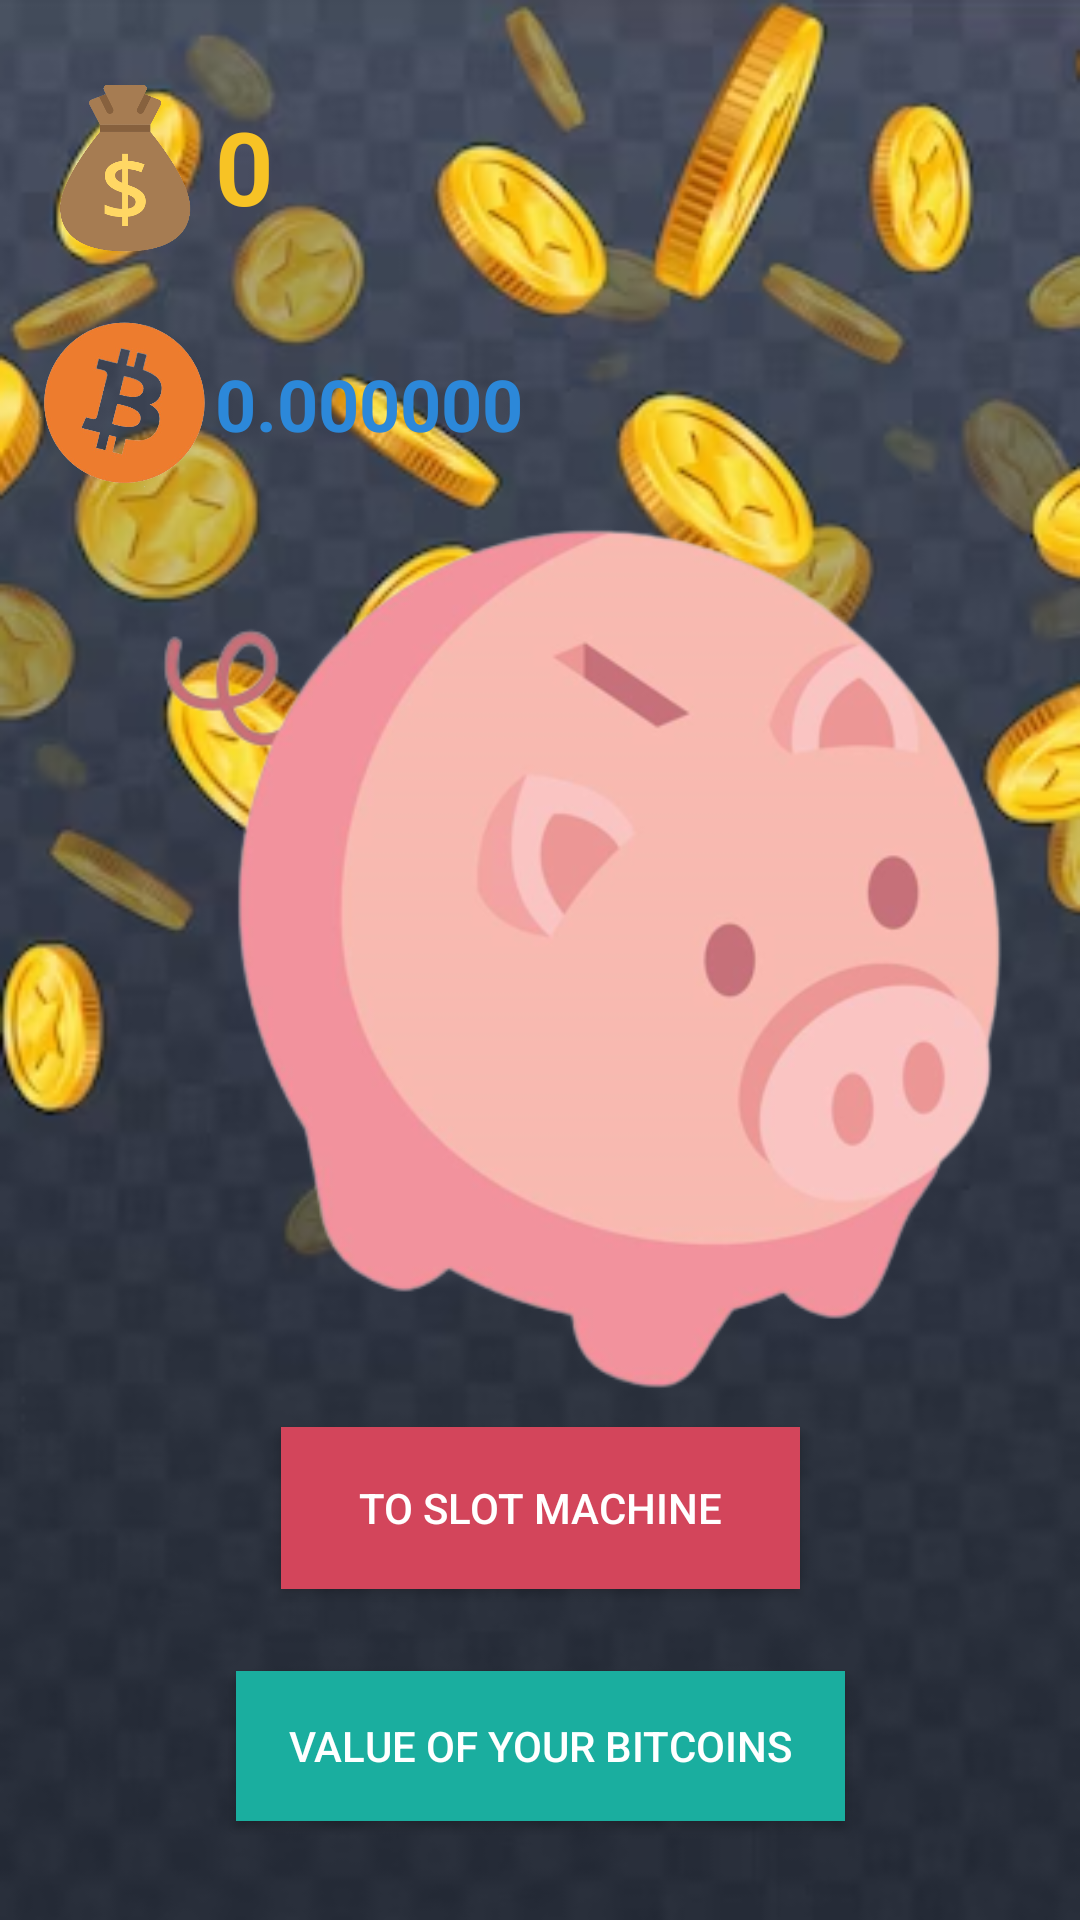

Screen size 1080px×1920px. Icon name, then its center in pixels as (x=x, y=y):
Coin Bag: (x=134, y=166)
